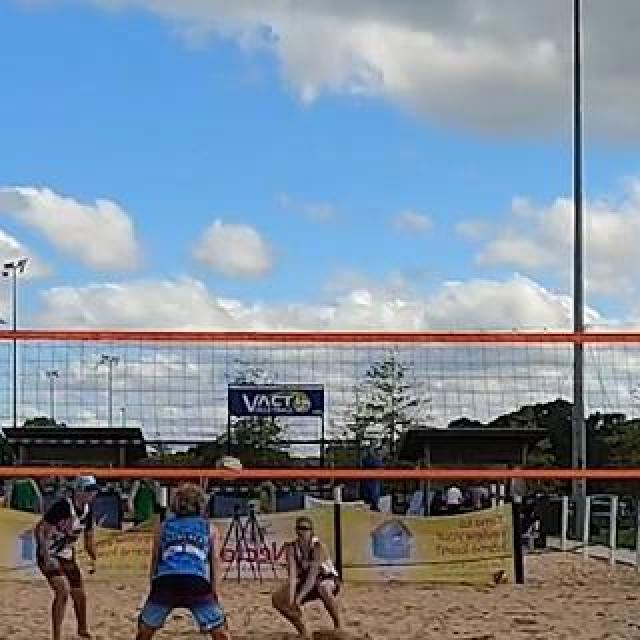volleyball: (215, 454, 243, 482), (493, 569, 509, 585)
